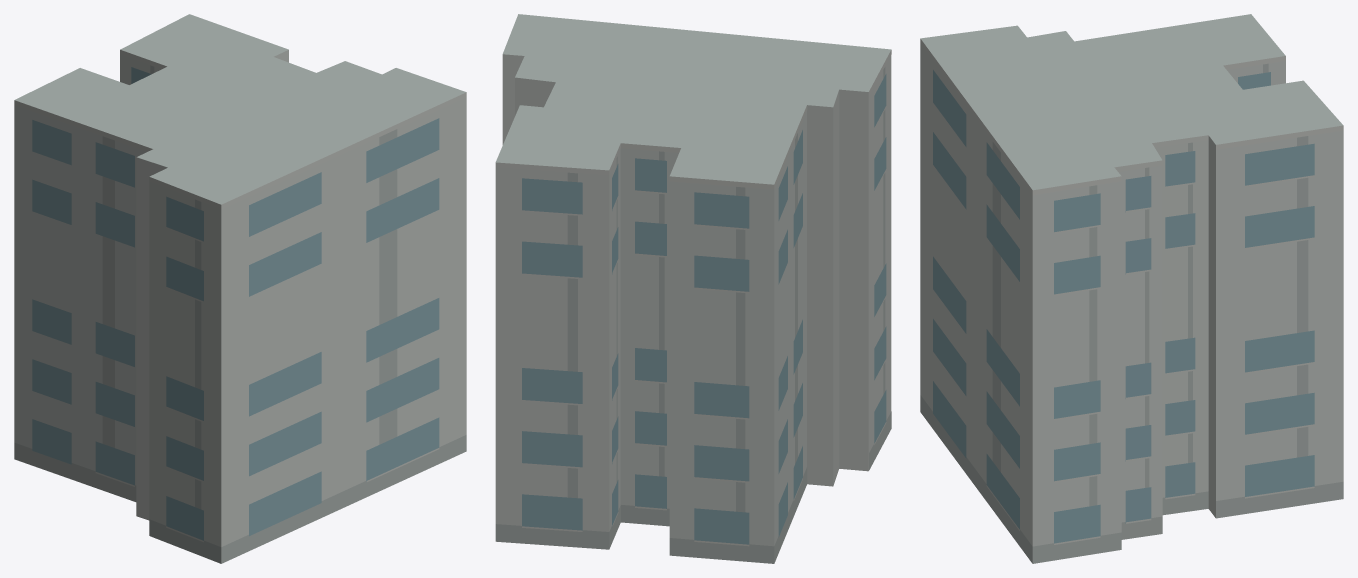
The model's file is survey-upis-32802097.glb.
3 renders of one model, left to right at view 1: azimuth 30°, elevation 25°; view 2: azimuth 150°, elevation 25°; view 3: azimuth 270°, elevation 25°, orthographic. The views are drawn at different scales.
Visible parts, largest first — view 1: survey-upis-32802097.tmp; view 2: survey-upis-32802097.tmp; view 3: survey-upis-32802097.tmp.
Boxes of the visible parts, x1=… form: survey-upis-32802097.tmp: x1=14, y1=14, x2=466, y2=563; survey-upis-32802097.tmp: x1=495, y1=14, x2=891, y2=563; survey-upis-32802097.tmp: x1=920, y1=14, x2=1343, y2=563.
Bounding box in the file's own units: 18.13 × 17.9 × 18.39.
